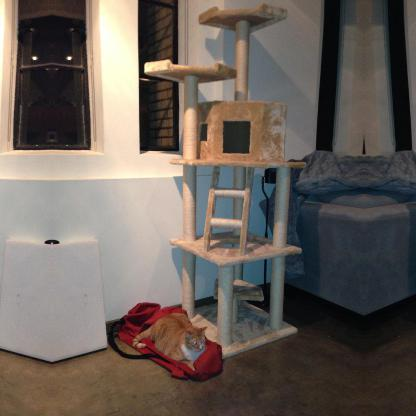Cat: (134, 310, 208, 370)
